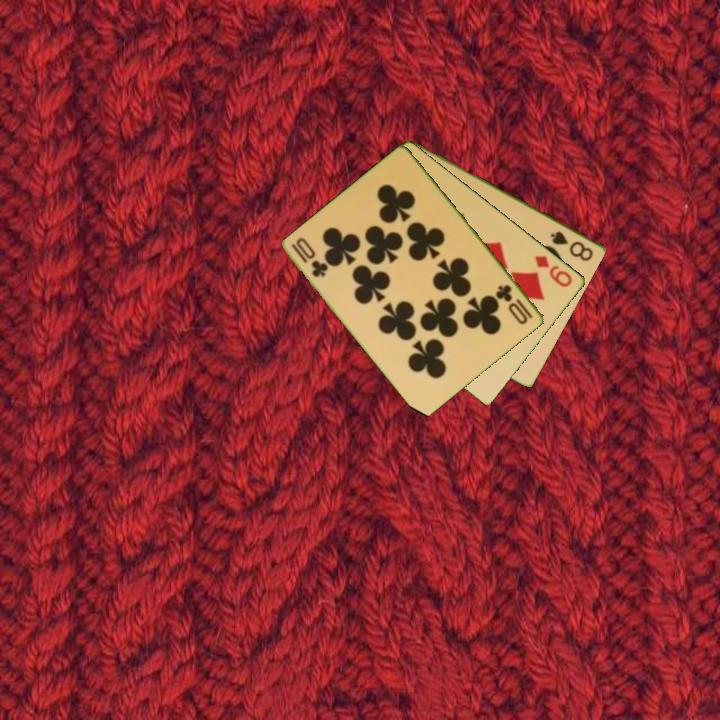10c: (492, 281, 536, 328), (288, 240, 331, 280)
8s: (547, 227, 597, 264)
9d: (531, 252, 575, 290)
